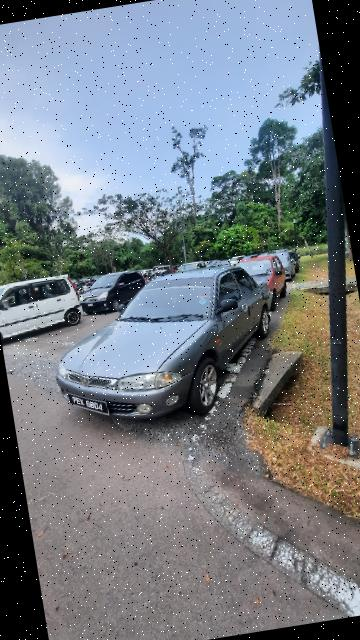License_Plate: (68, 386, 113, 428)
car: (37, 254, 293, 440)
